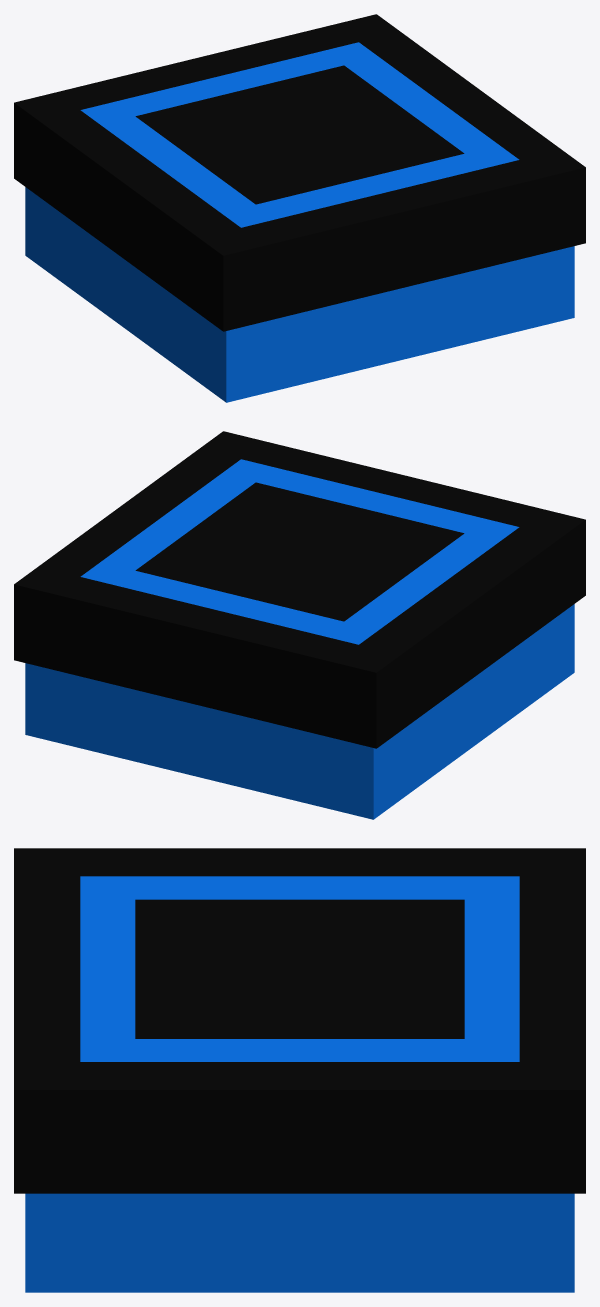
Rendered from plateform5x2.FBX.
3 views of the same model, one above another, from view 1: azimuth 30°, elevation 25°; view 2: azimuth 150°, elevation 25°; view 3: azimuth 270°, elevation 25° (orthographic). The views are drawn at different scales.
Parts seen in each view (by area): view 1: Box001; view 2: Box001; view 3: Box001.
Boxes of the visible parts, x1,y1,x2,y2 form: Box001: (14, 14, 585, 402); Box001: (14, 431, 585, 819); Box001: (14, 848, 585, 1292).
Bounding box in the file's own units: 500 × 200 × 500.
